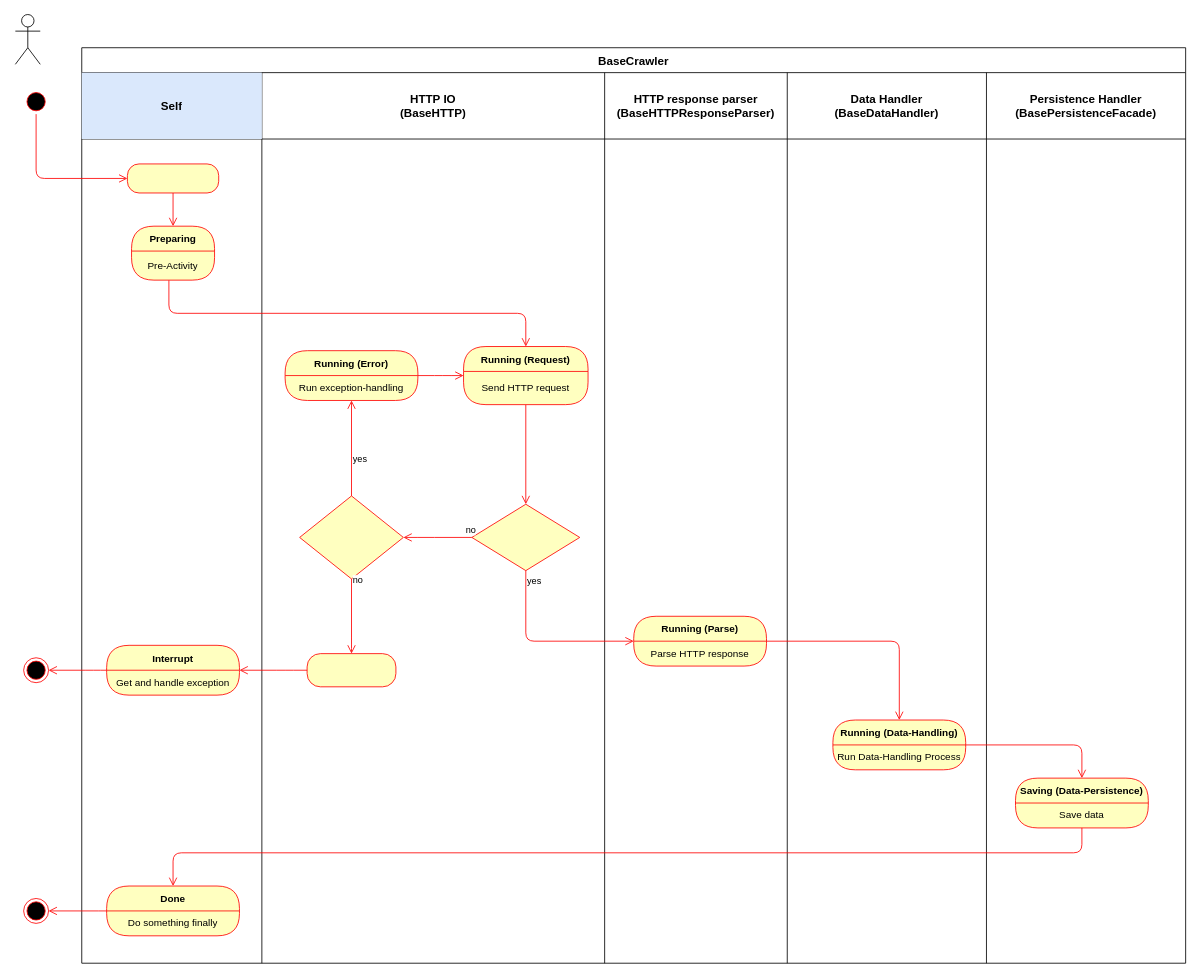
Image size: 1200x978. Some labels were removed from this diagram. Each missing label, with the centre of its shape:
Actor: pixel 27 39
Get HTTP response without any error: pixel 525 537
Handling URLs: pixel 173 178
Has Retry-Mechanism to run or running timeout: pixel 351 537
Raise exception: pixel 351 670
